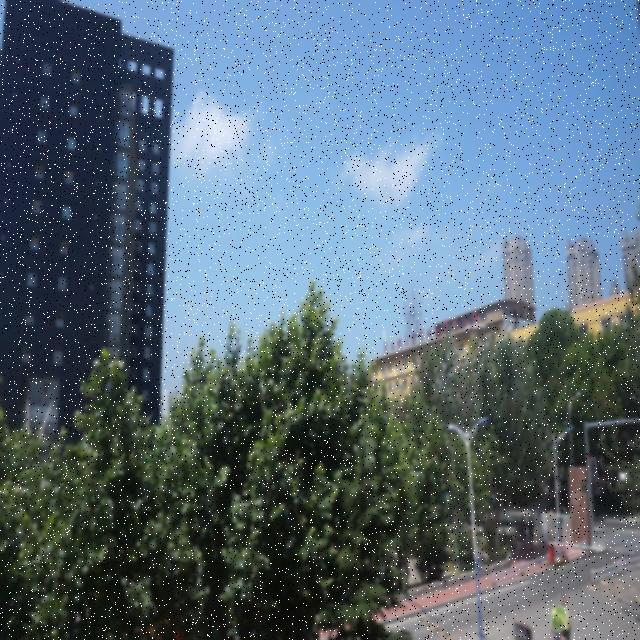UAV: (465, 322, 488, 336)
